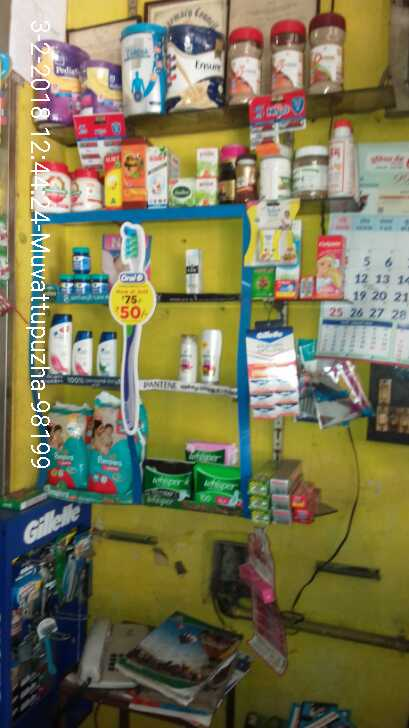vicks: (46, 240, 123, 295)
